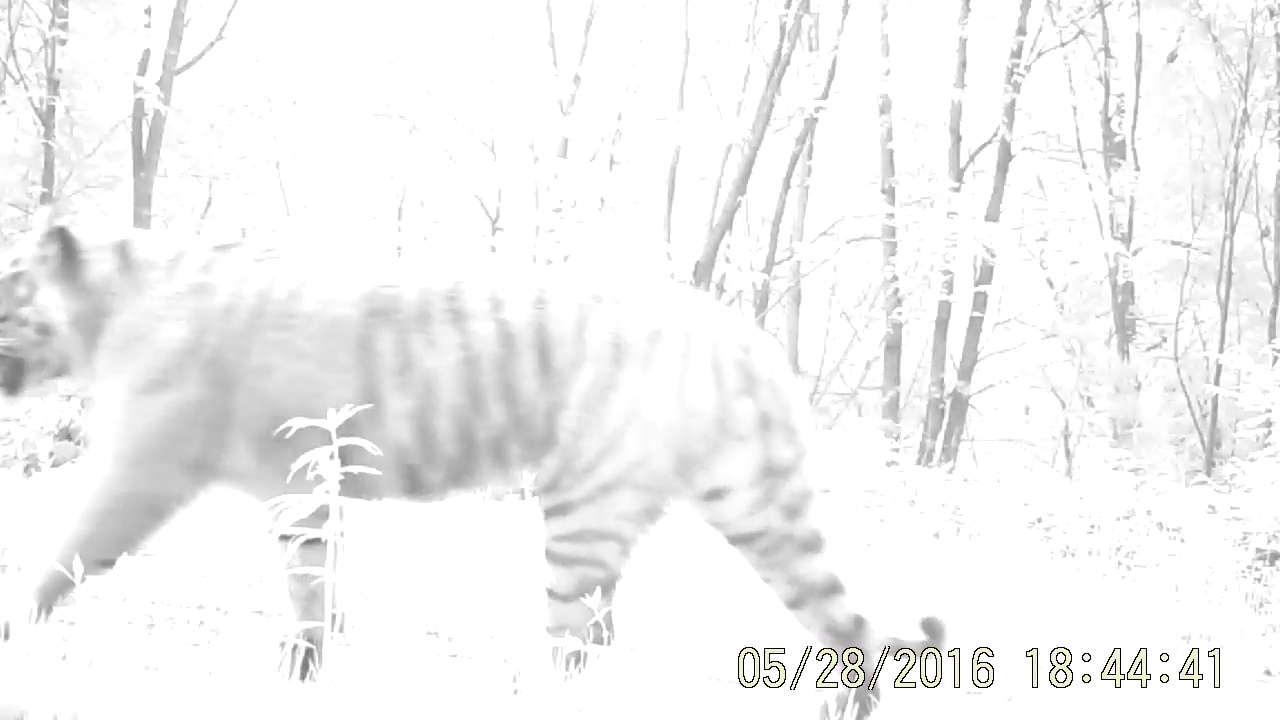Tiger: (3, 32, 856, 696)
